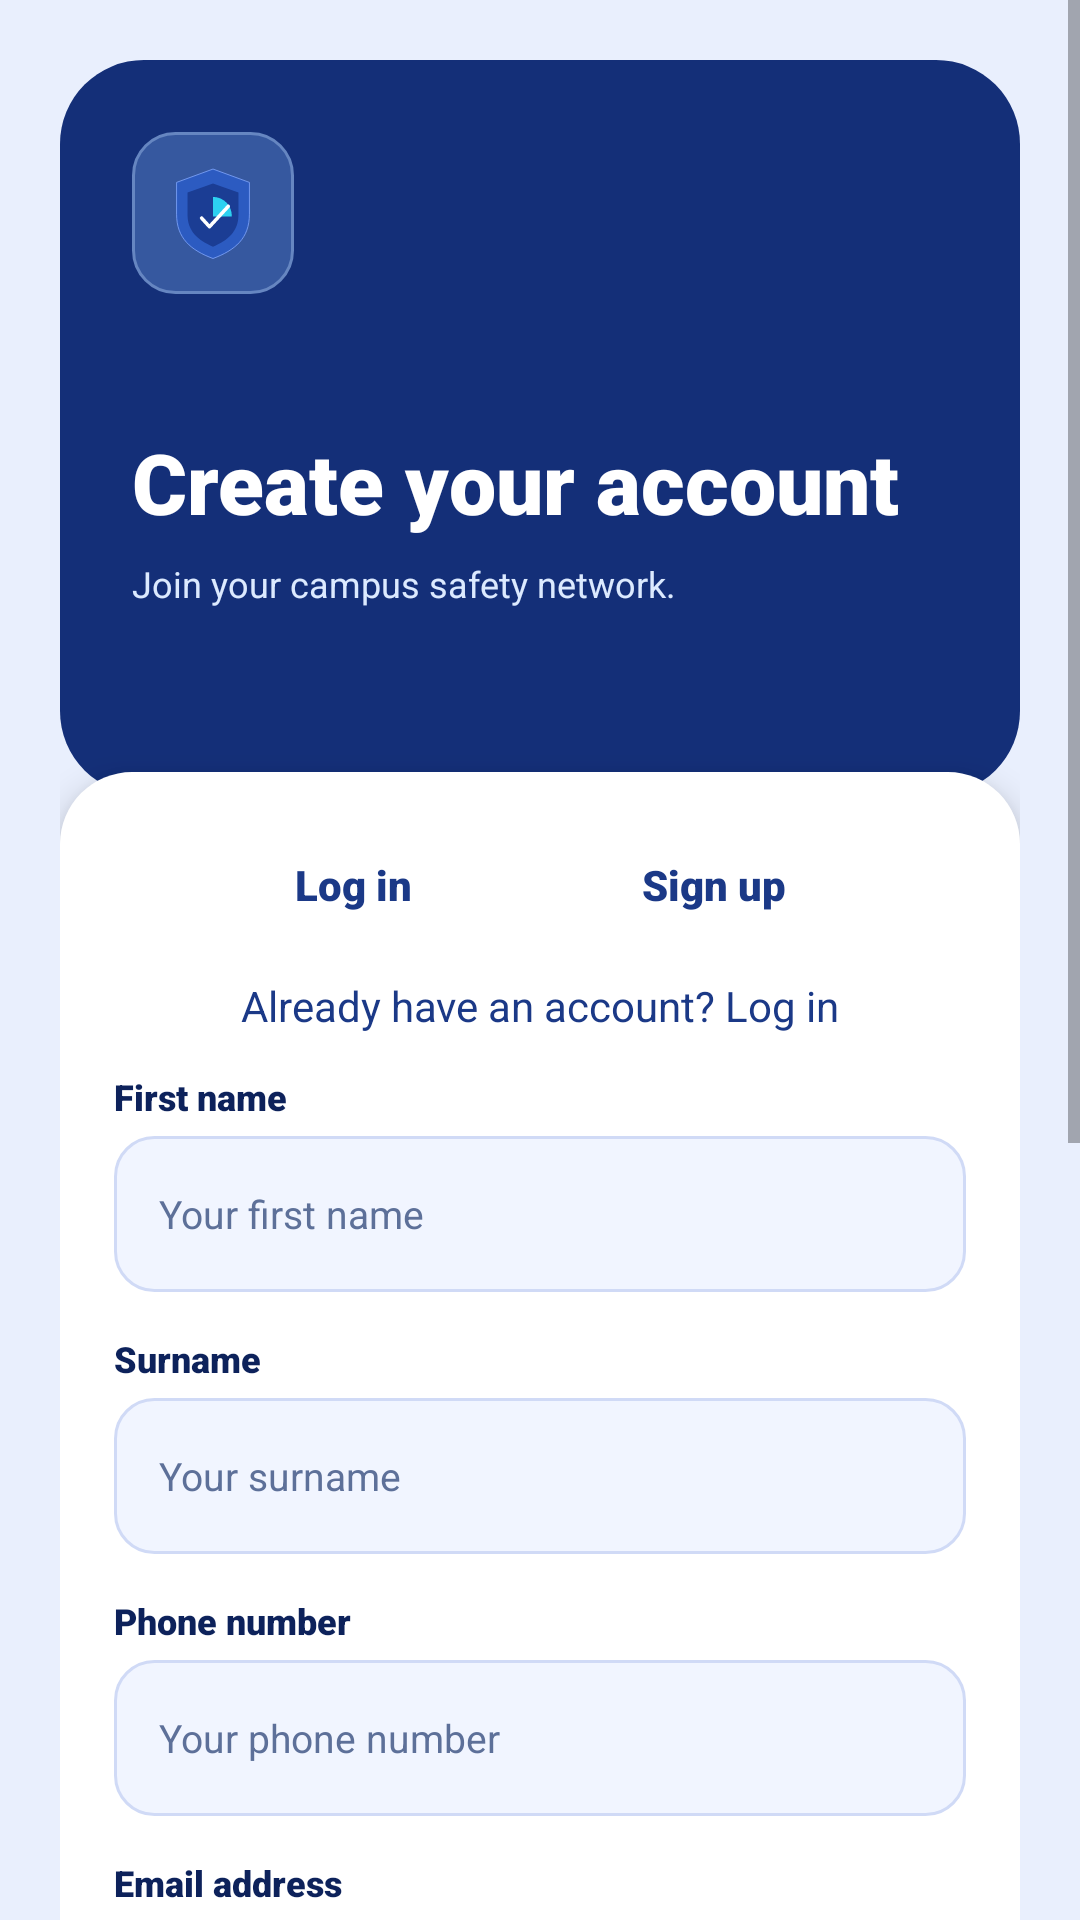

Icons on this 1080px×1920px Android screen, each with its box as detection(x1, y1, x2, y2):
auth shield: detection(132, 132, 294, 294)
